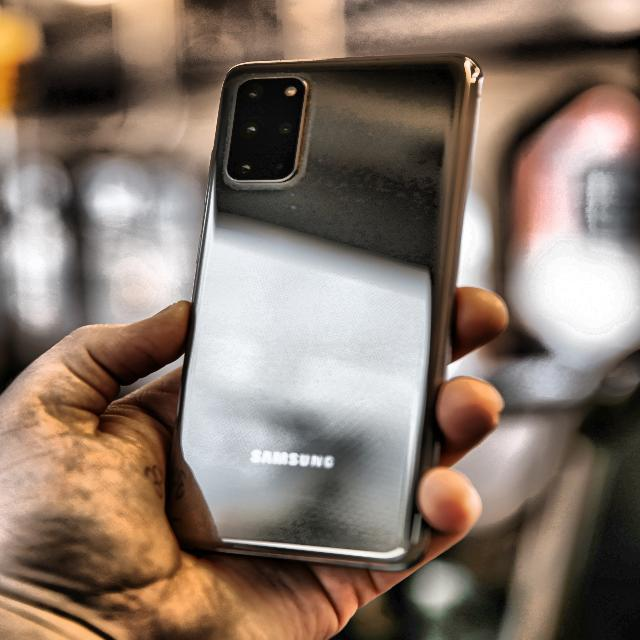Phone: (164, 49, 486, 576)
